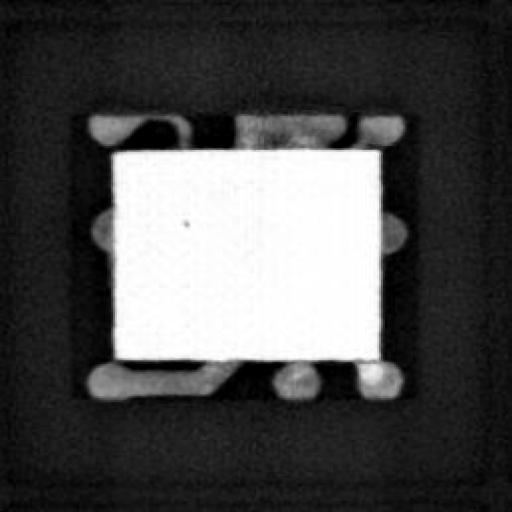DIE_INK: (176, 210, 192, 230)
